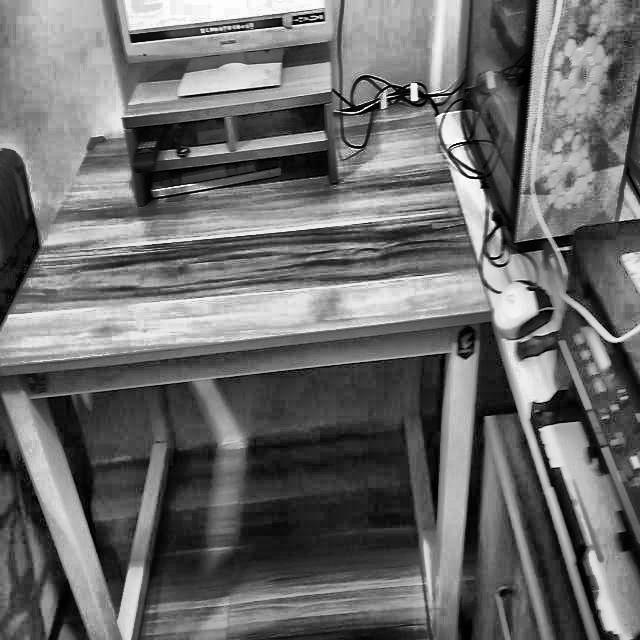mesa: (0, 96, 485, 640)
